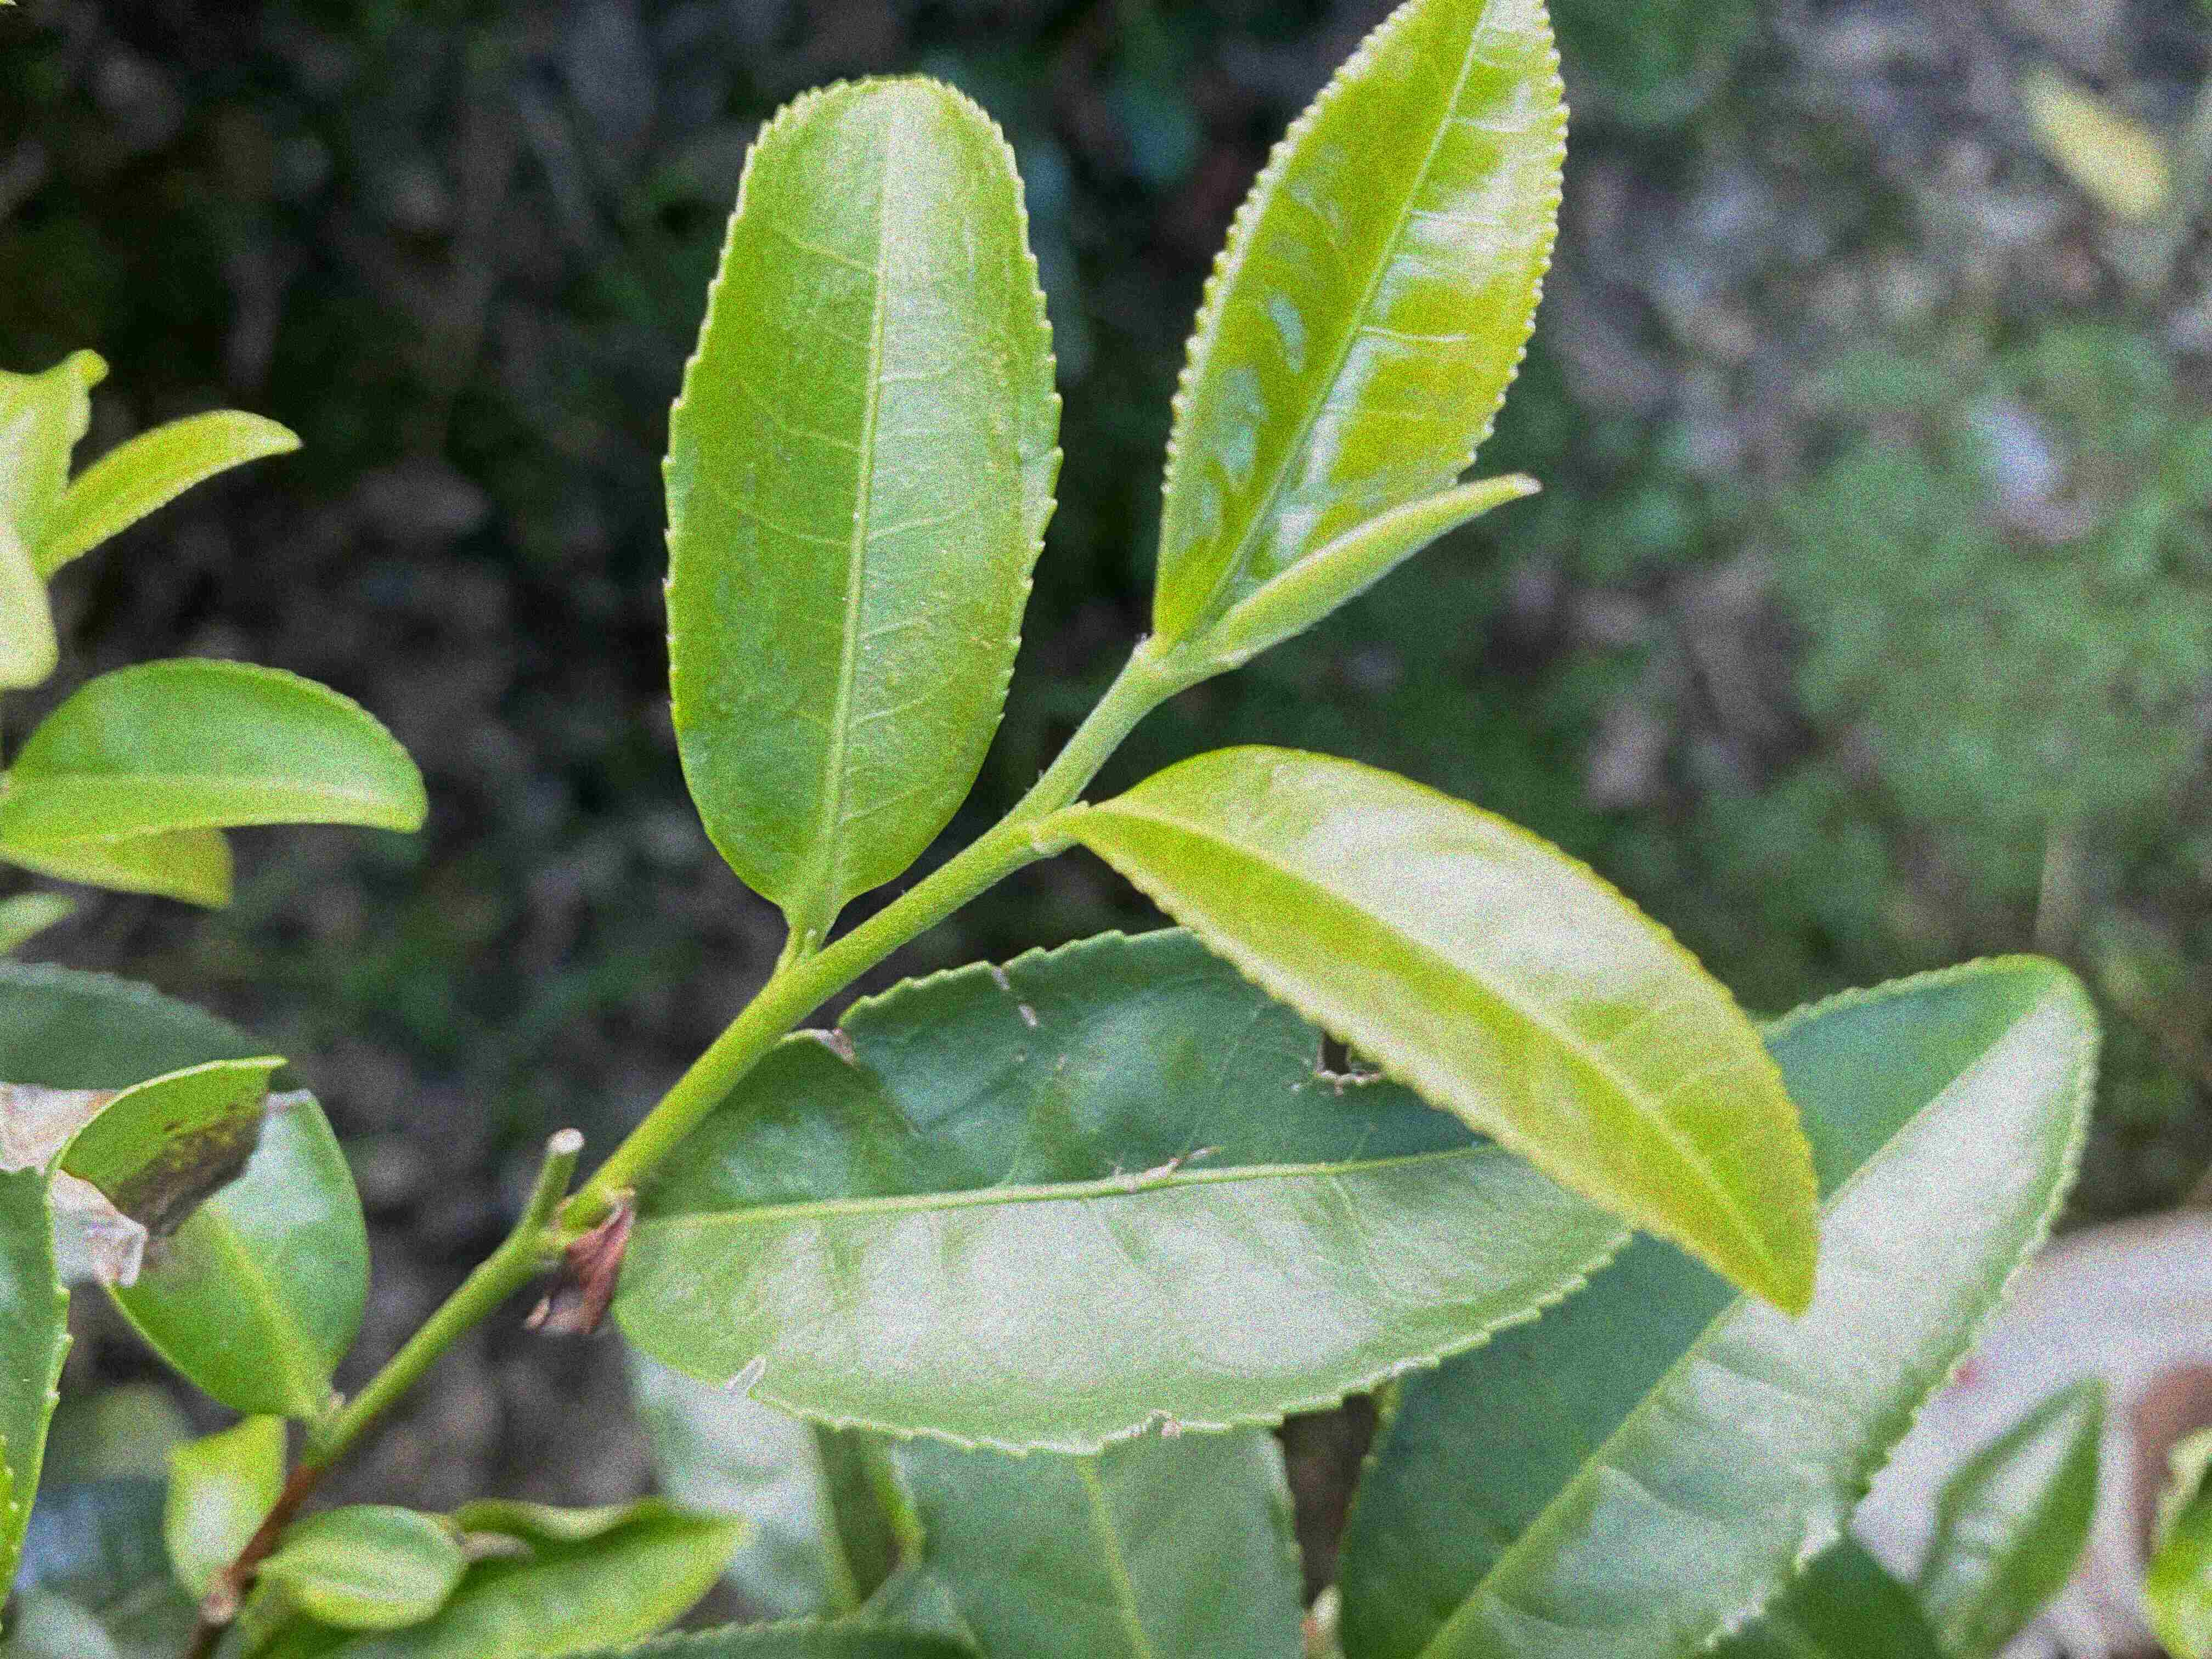chihuo_high: (634, 920, 1632, 1460)
healthy: (1078, 741, 1822, 1330), (657, 68, 1068, 904), (1151, 2, 1569, 641)
